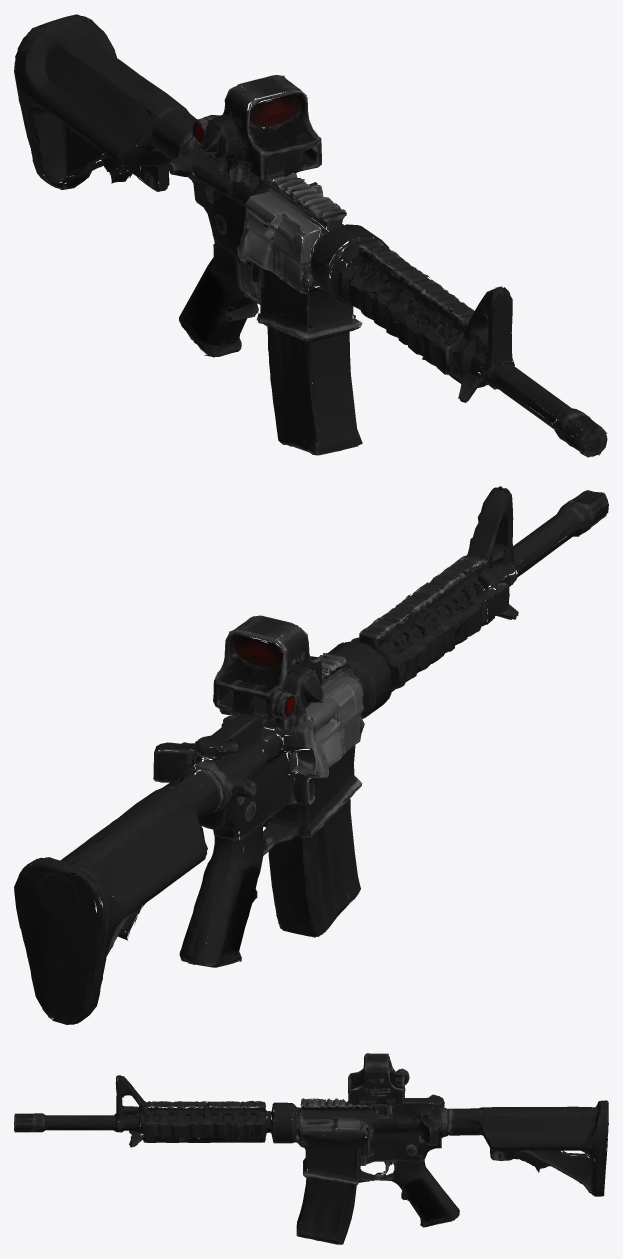
3 renders of one model, top to bottom at view 1: azimuth 30°, elevation 25°; view 2: azimuth 150°, elevation 25°; view 3: azimuth 270°, elevation 25°, orthographic. The views are drawn at different scales.
Visible parts, largest first — view 1: m4a1; view 2: m4a1; view 3: m4a1.
Part boxes in pixels (bbox=[...]): m4a1: bbox=[14, 14, 607, 457]; m4a1: bbox=[14, 486, 608, 1024]; m4a1: bbox=[14, 1053, 608, 1244].
Bounding box in the file's own units: 0.1111 × 0.2831 × 0.84.
Materials: 1 (1 with a texture image).
